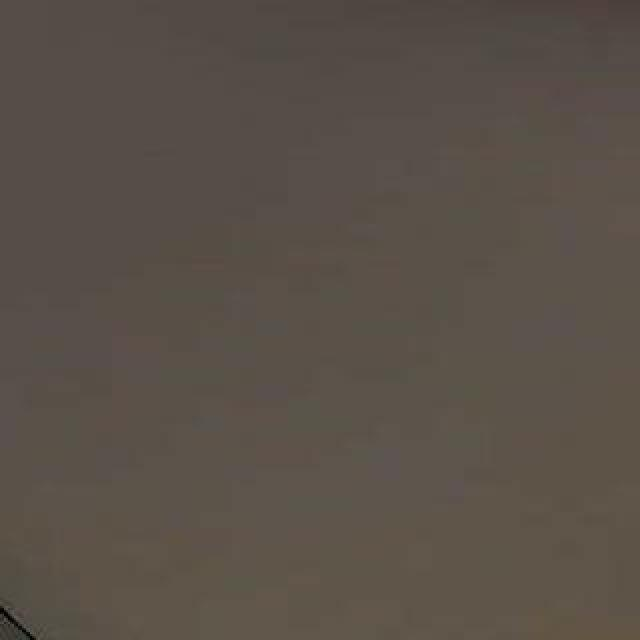fluorescent tube: (0, 622, 550, 640)
